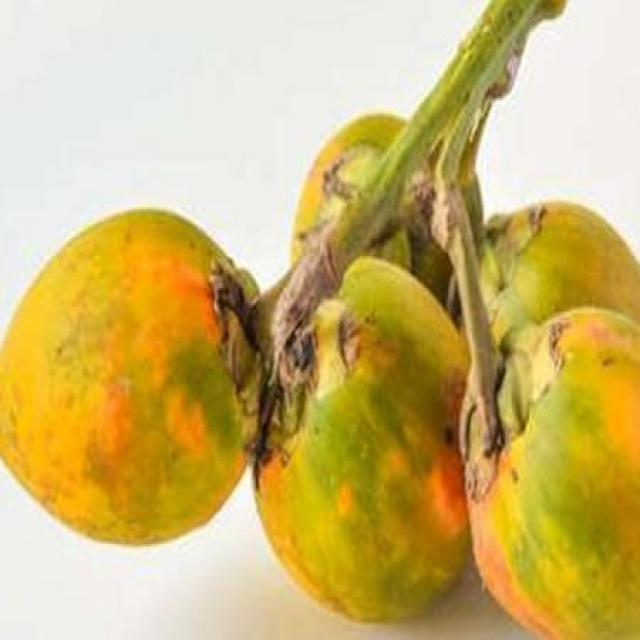good: (0, 211, 259, 548), (255, 256, 472, 625), (471, 307, 639, 638), (492, 201, 639, 331), (293, 115, 408, 256)
